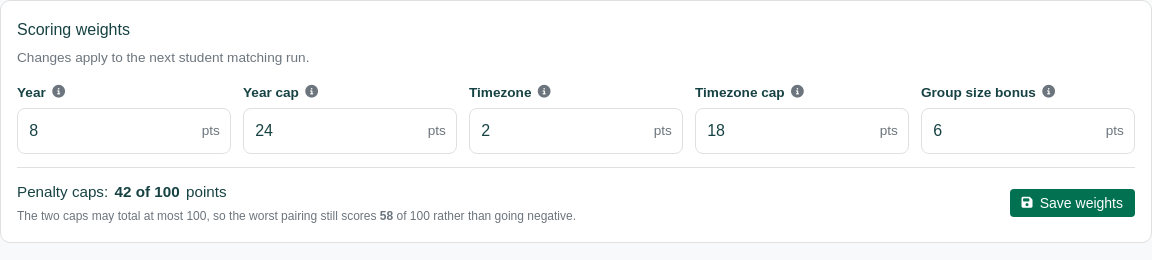
MatchingConfigPanel › the penalty ceiling › shows what the caps can take off, and the worst case that leaves
Check: the text "58" is shown, box [380, 209, 393, 223]
Replace the text in the number field labelled "Year cap" with "40". click: point(350, 131)
box: [243, 108, 457, 154]
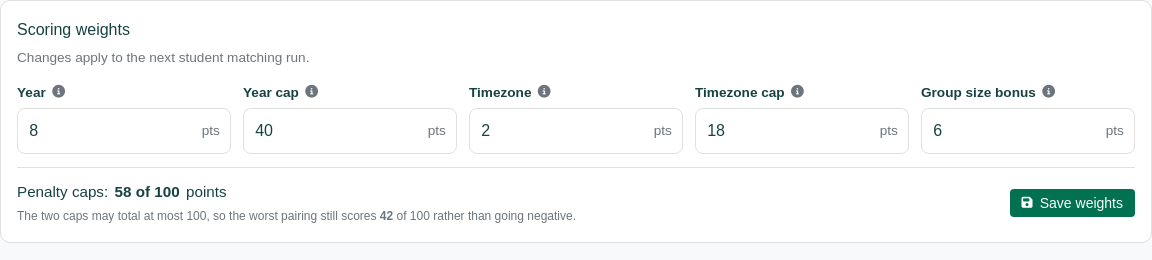
Check: the text "Penalty caps: 58 of 100" is shown, box [17, 183, 226, 200]
Check: the text "42" is shown, box [380, 209, 393, 223]
